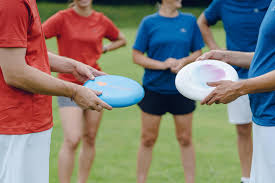disc: (176, 60, 238, 101), (85, 75, 145, 109)
